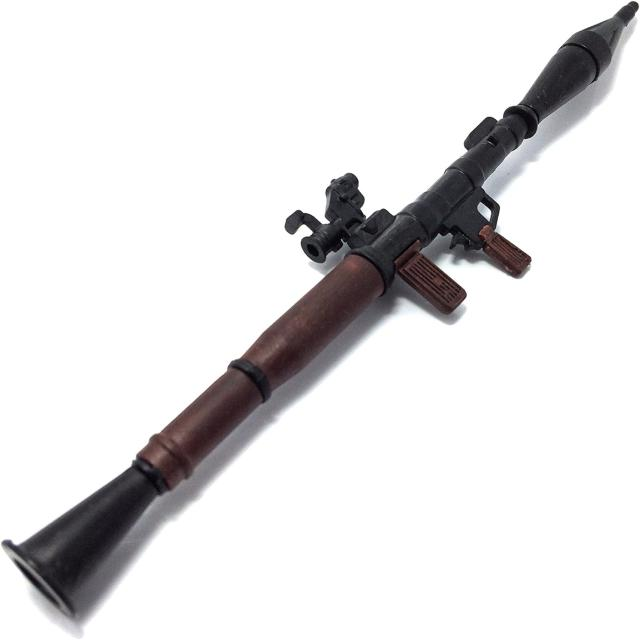Gun: (37, 8, 593, 628)
